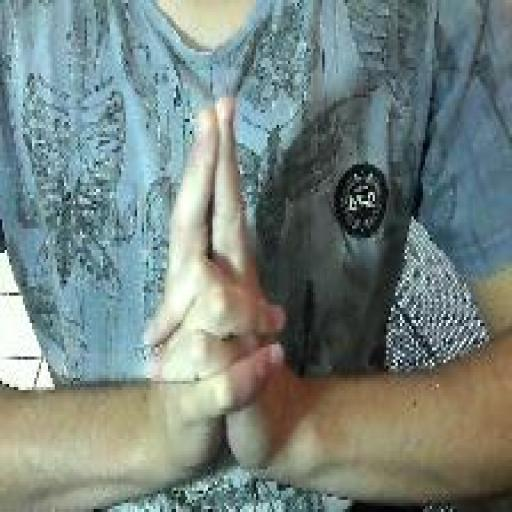Tora -tiger-: (137, 93, 293, 492)
